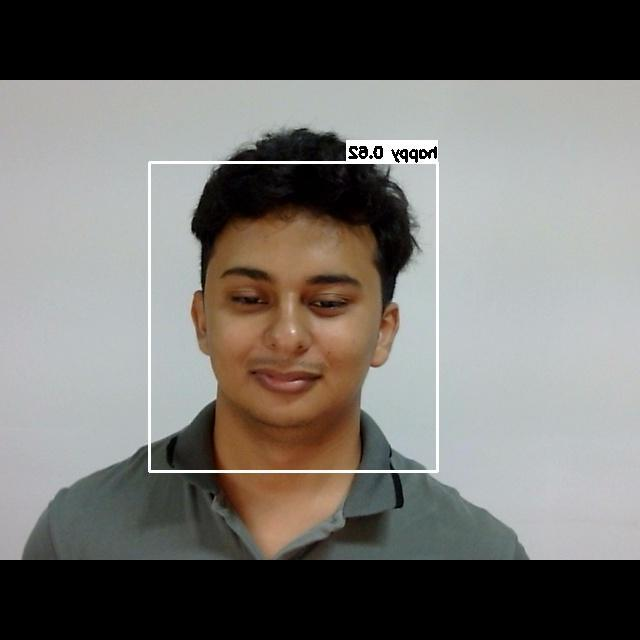Happy: (195, 246, 381, 420)
